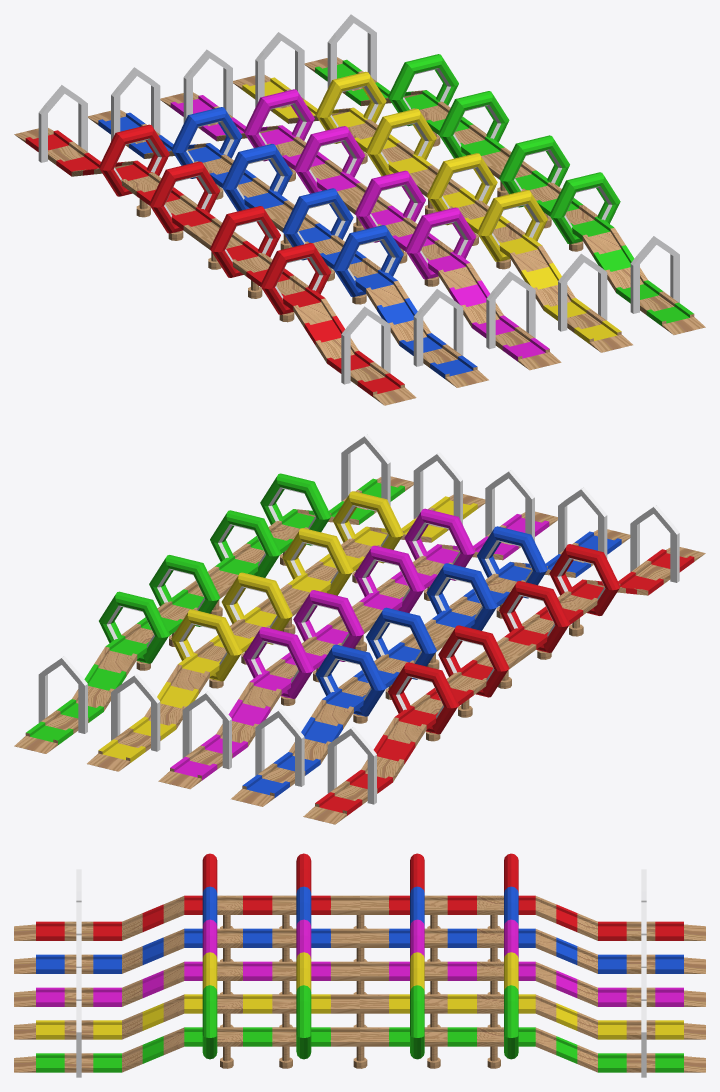
3 renders of one model, top to bottom at view 1: azimuth 30°, elevation 25°; view 2: azimuth 150°, elevation 25°; view 3: azimuth 270°, elevation 25°, orthographic. The views are drawn at different scales.
Parts seen in each view (by area): view 1: Material_009-material, Material_011-material, Material_015-material, Material_013-material, Material_001-material, Material_005-material, Material_008-material, Material_010-material, Material_012-material, Material_014-material, Material_006-material, Material_005-material_4 (+14 smaller); view 2: Material_009-material, Material_001-material, Material_011-material, Material_015-material, Material_013-material, Material_005-material, Material_008-material, Material_014-material, Material_012-material, Material_010-material, Material_006-material, Material_005-material_4 (+14 smaller); view 3: Material_005-material_1, Material_005-material_2, Material_005-material, Material_005-material_3, Material_005-material_4, Material_006-material, Material_014-material, Material_008-material, Material_010-material, Material_012-material, Material_015-material, Material_011-material (+13 smaller).
Part boxes in pixels (x1,y1,x2,y2): Material_009-material: (98, 124, 331, 314); Material_011-material: (171, 107, 403, 297); Material_015-material: (388, 54, 620, 244); Material_013-material: (244, 89, 476, 279); Material_001-material: (315, 71, 547, 261); Material_005-material: (14, 128, 416, 405); Material_008-material: (25, 130, 404, 396); Material_010-material: (98, 112, 477, 378); Material_012-material: (170, 95, 549, 361); Material_014-material: (315, 59, 693, 326); Material_006-material: (242, 77, 621, 343); Material_005-material_4: (160, 92, 561, 370); Material_009-material: (388, 544, 620, 734); Material_001-material: (171, 491, 403, 681); Material_011-material: (315, 526, 547, 716); Material_015-material: (99, 473, 331, 663); Material_013-material: (243, 508, 475, 698); Material_005-material: (303, 547, 705, 824); Material_008-material: (315, 549, 694, 815); Material_014-material: (26, 478, 404, 744); Material_012-material: (170, 514, 549, 780); Material_010-material: (243, 531, 621, 797); Material_006-material: (98, 496, 477, 762); Material_005-material_4: (158, 511, 557, 789); Material_005-material_1: (14, 994, 705, 1039); Material_005-material_2: (14, 1027, 705, 1072); Material_005-material: (14, 895, 705, 940); Material_005-material_3: (14, 928, 705, 973); Material_005-material_4: (14, 961, 705, 1006); Material_006-material: (36, 994, 683, 1039); Material_014-material: (36, 1027, 683, 1072); Material_008-material: (36, 895, 683, 940); Material_010-material: (36, 928, 683, 973); Material_012-material: (36, 961, 683, 1006); Material_015-material: (202, 985, 518, 1059); Material_011-material: (202, 886, 518, 926).
Size of the model in its own units: 65.5 by 13.82 by 117.
Materials: 7 (1 with a texture image).
